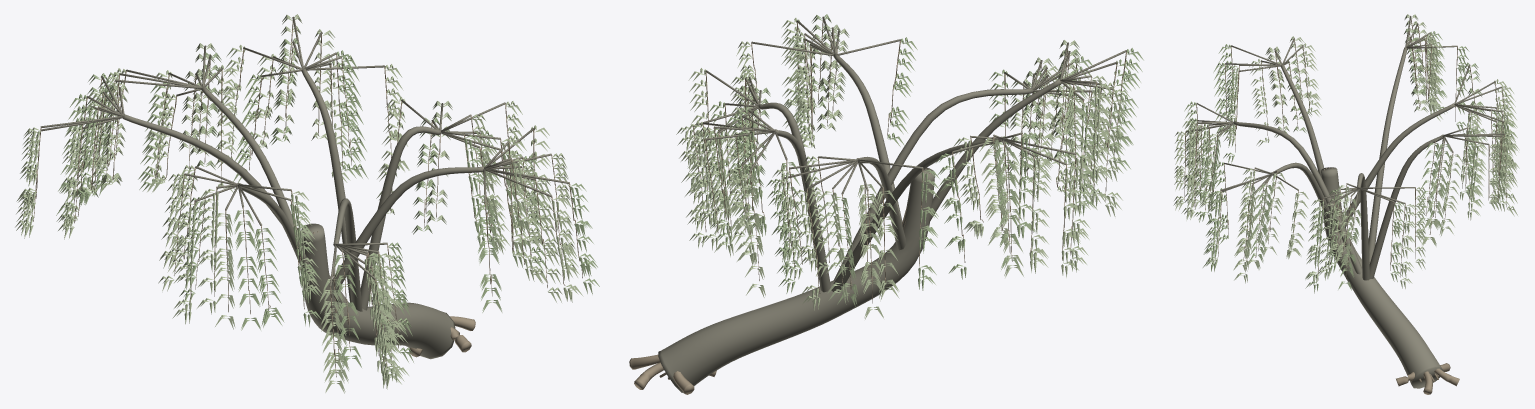
Rendered from grove-willow-3.glb.
The picture shows the model from 3 angles, left to right: view 1: azimuth 30°, elevation 25°; view 2: azimuth 150°, elevation 25°; view 3: azimuth 270°, elevation 25°; orthographic projection. The views are drawn at different scales.
Parts seen in each view (by area): view 1: grove-willow-3; view 2: grove-willow-3; view 3: grove-willow-3.
Boxes of the visible parts, bbox=[...] form: grove-willow-3: bbox=[15, 14, 599, 393]; grove-willow-3: bbox=[629, 14, 1143, 394]; grove-willow-3: bbox=[1173, 14, 1519, 394].
Bounding box in the file's own units: 8.78 × 6.26 × 8.12.
